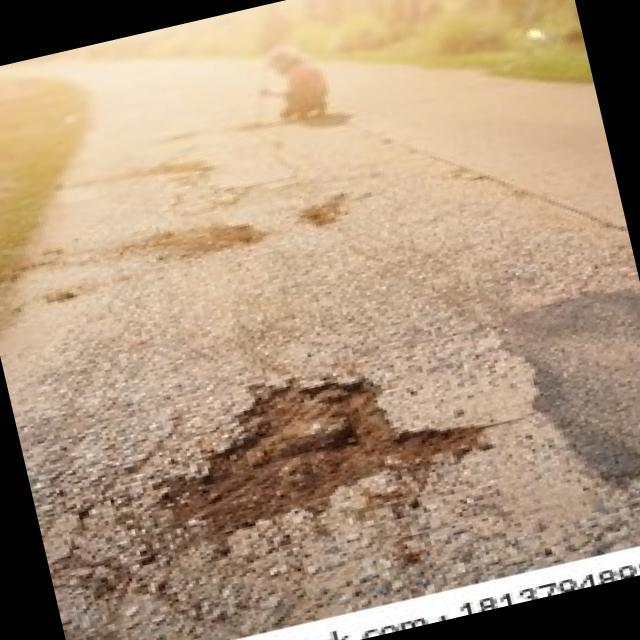Pothole: (148, 335, 500, 554)
